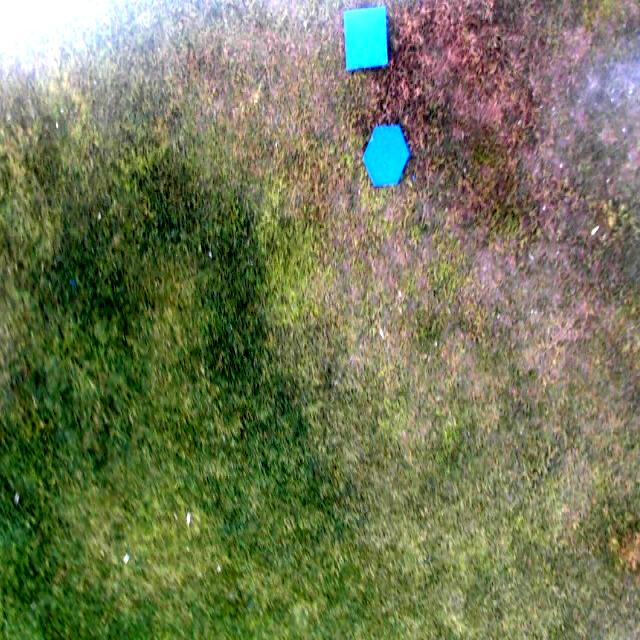blue_hexagon: (364, 125, 410, 189)
blue_square: (344, 8, 390, 69)
